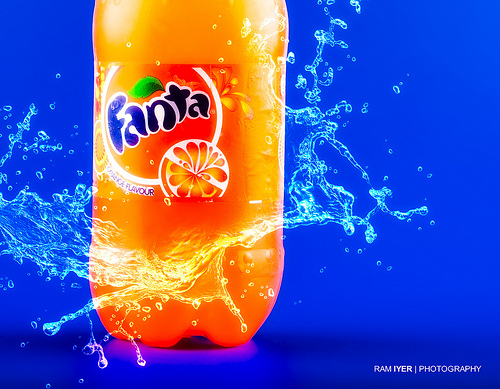fanta: (88, 1, 287, 348)
